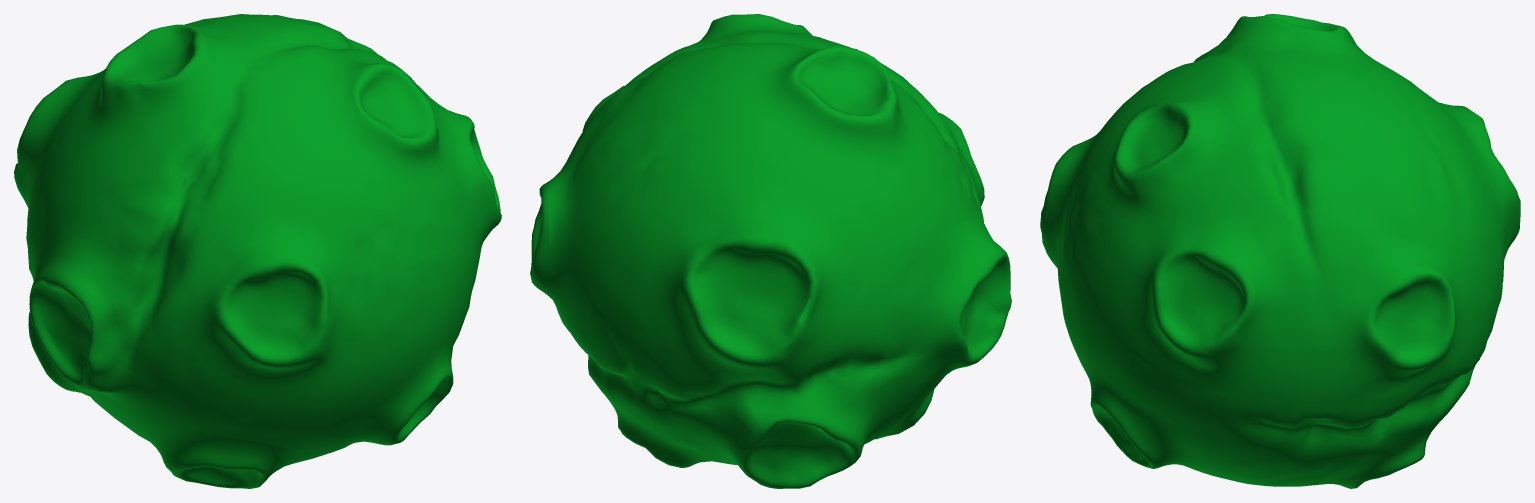
File: oldmoon.gltf
3 renders of one model, left to right at view 1: azimuth 30°, elevation 25°; view 2: azimuth 150°, elevation 25°; view 3: azimuth 270°, elevation 25°, orthographic. The views are drawn at different scales.
Parts seen in each view (by area): view 1: OldMoon_LP; view 2: OldMoon_LP; view 3: OldMoon_LP.
Boxes of the visible parts, x1,y1,x2,y2 form: OldMoon_LP: (14,14,501,488); OldMoon_LP: (530,14,1011,488); OldMoon_LP: (1040,14,1520,488).
Bounding box in the file's own units: 2.18 × 2.06 × 2.14.
